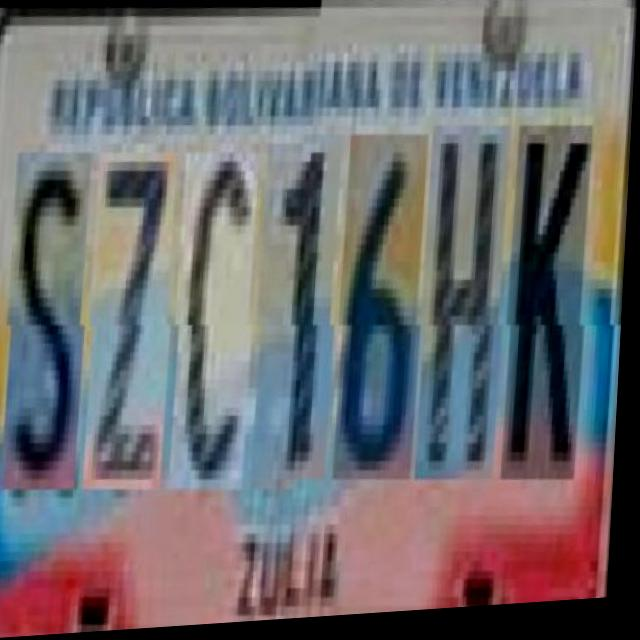1: (257, 139, 350, 493)
6: (340, 139, 436, 494)
c: (175, 148, 267, 493)
h: (421, 130, 518, 492)
k: (507, 130, 600, 492)
s: (7, 148, 99, 493)
z: (89, 148, 185, 493)
